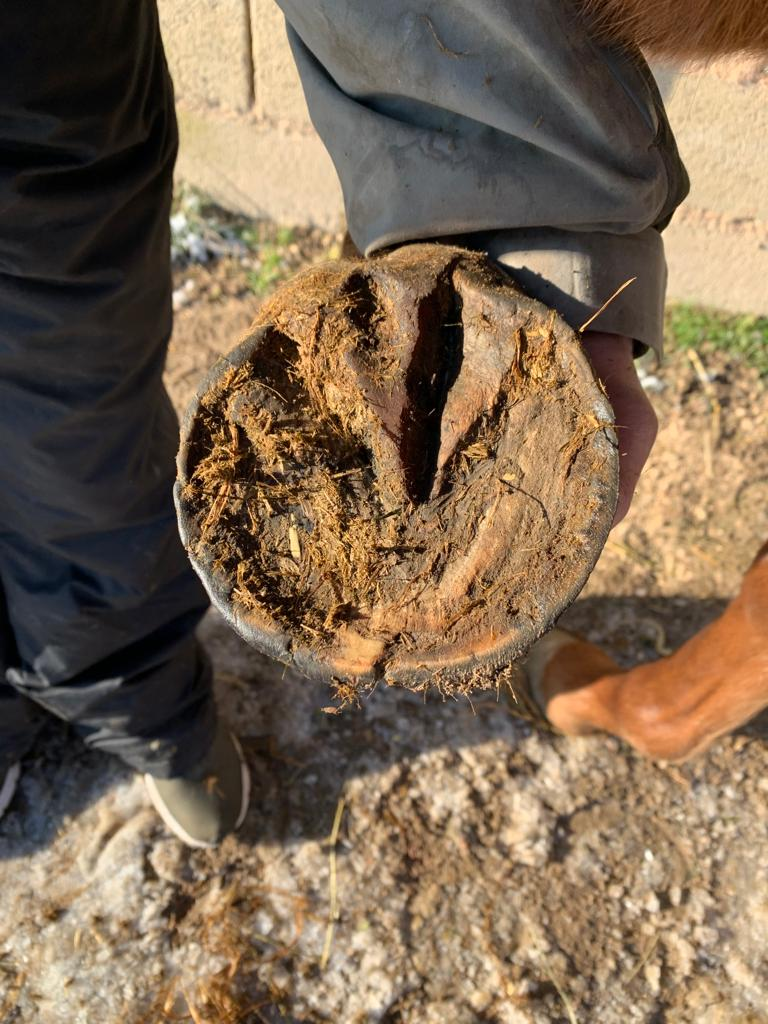horsesole: (171, 277, 619, 697)
